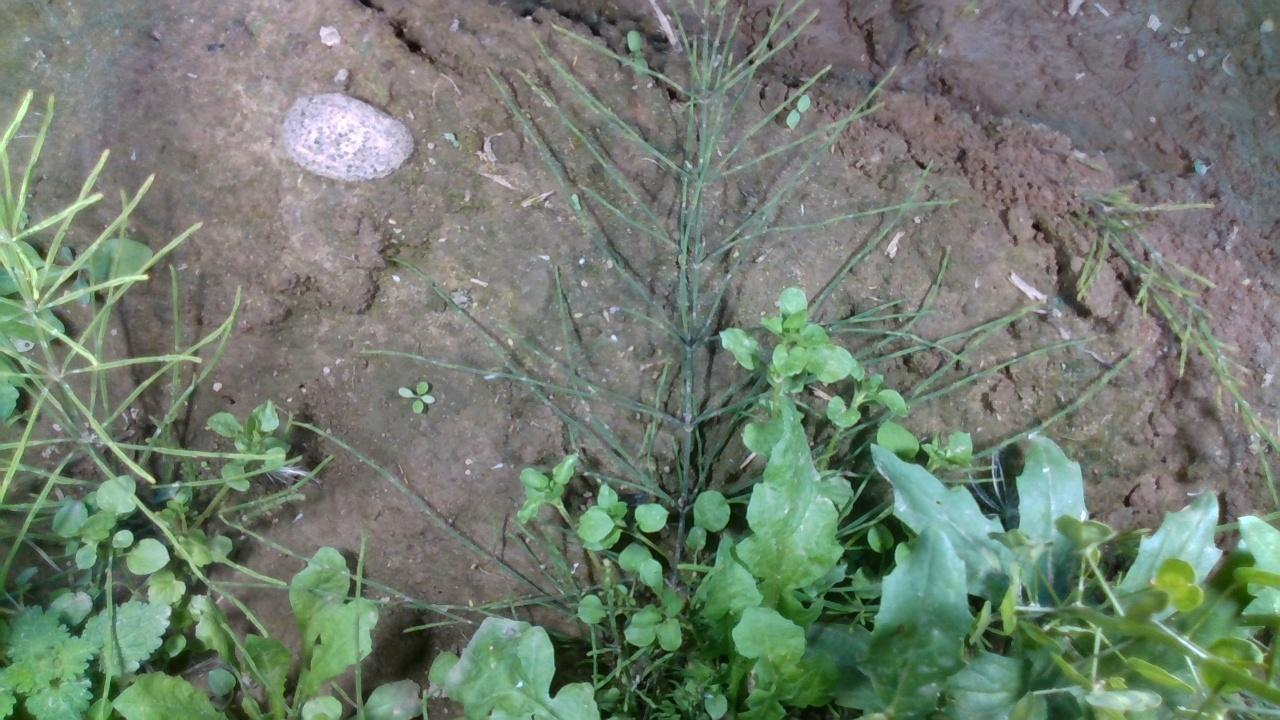weed: (393, 379, 435, 413)
